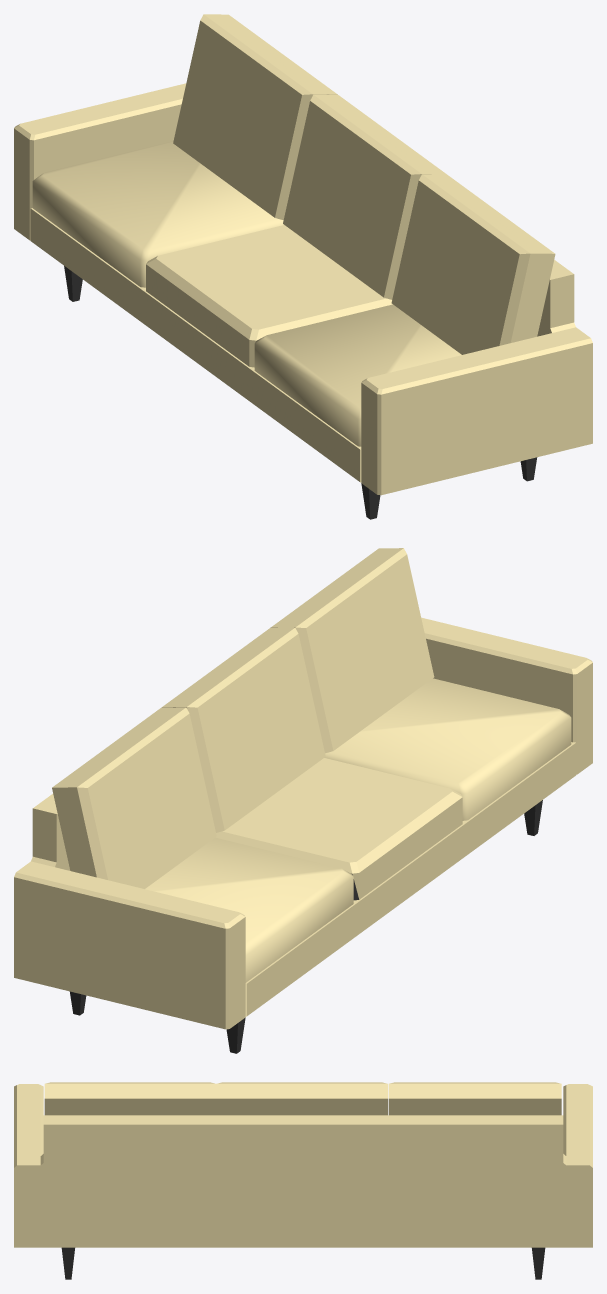
File: sofa_away.fbx
3 renders of one model, top to bottom at view 1: azimuth 30°, elevation 25°; view 2: azimuth 150°, elevation 25°; view 3: azimuth 270°, elevation 25°, orthographic. The views are drawn at different scales.
Parts seen in each view (by area): view 1: couch1_207; view 2: couch1_207; view 3: couch1_207.
Part boxes in pixels (left/top/right/bottom): couch1_207: left=14, top=14, right=592, bottom=519; couch1_207: left=14, top=548, right=592, bottom=1053; couch1_207: left=14, top=1082, right=592, bottom=1279.
Bounding box in the file's own units: 82.53 × 88.26 × 244.
